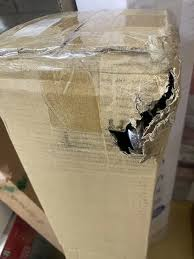damaged package: (98, 50, 183, 168)
